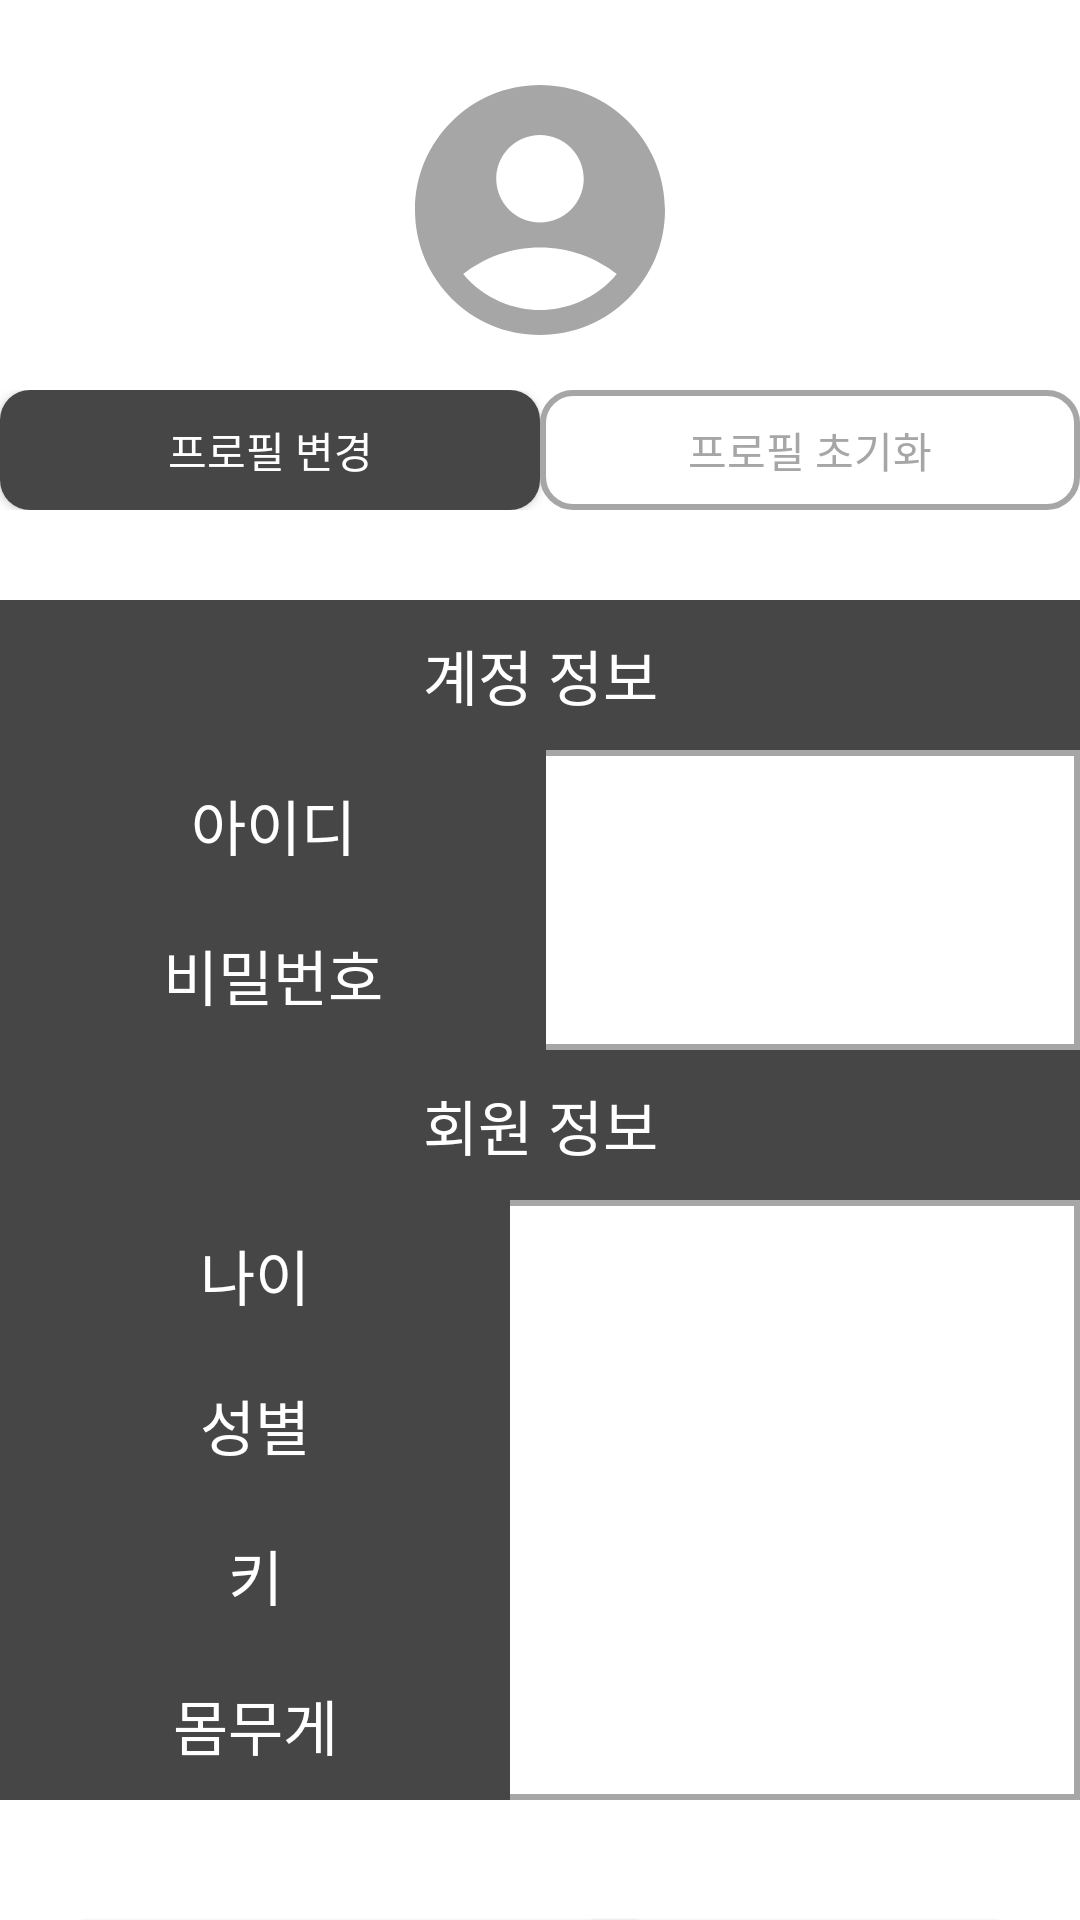

Named icons in this screenshot (1080w x 1920h) and their bounding boxes, box=[x1, y1, x2, y2]:
profile: box=[415, 85, 665, 335]
